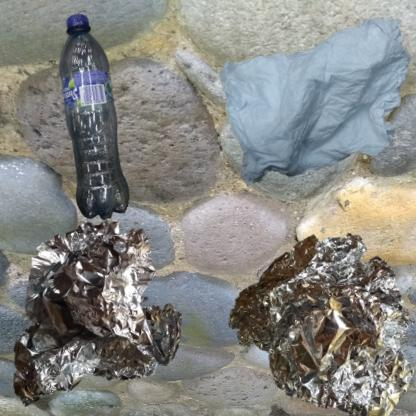aluminio: (213, 213, 416, 416), (10, 213, 189, 416)
botella: (10, 10, 203, 262)
papel: (213, 10, 416, 198)
